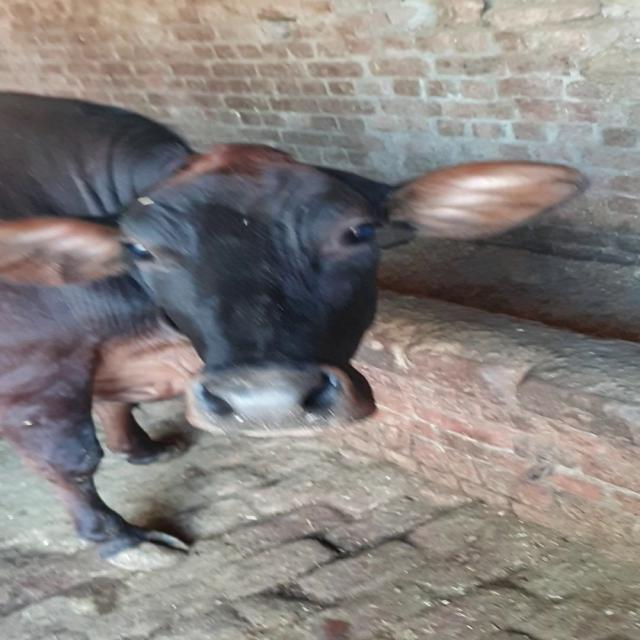cowFace: (96, 160, 455, 438)
